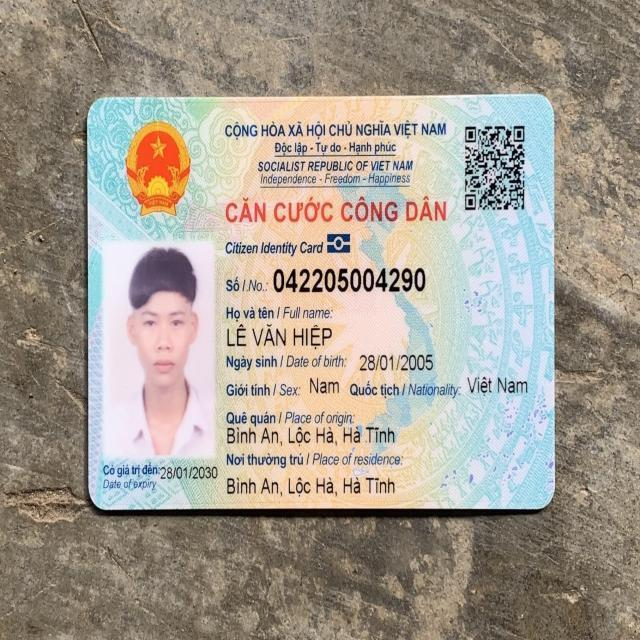current_place: (226, 474, 396, 498)
dob: (358, 347, 434, 375)
expire_date: (161, 462, 217, 483)
gender: (306, 372, 343, 397)
id: (272, 262, 425, 292)
name: (226, 318, 338, 349)
nationality: (465, 365, 529, 400)
origin_place: (226, 425, 397, 447)
